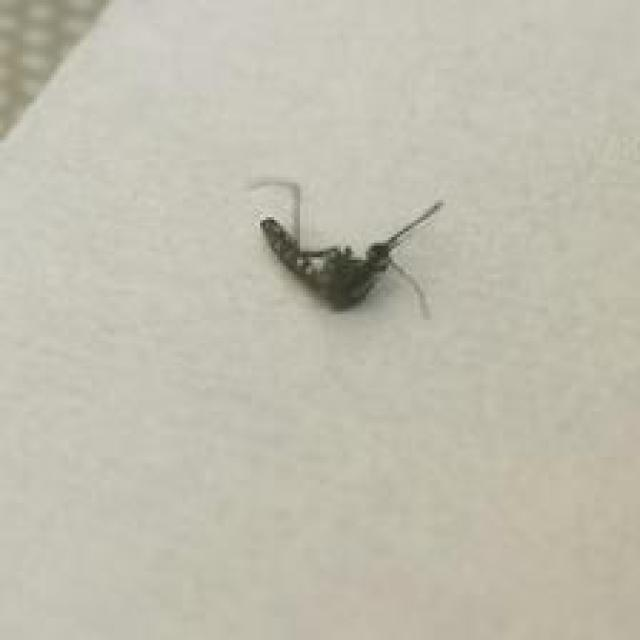Aedes albopictus: (253, 183, 444, 320)
